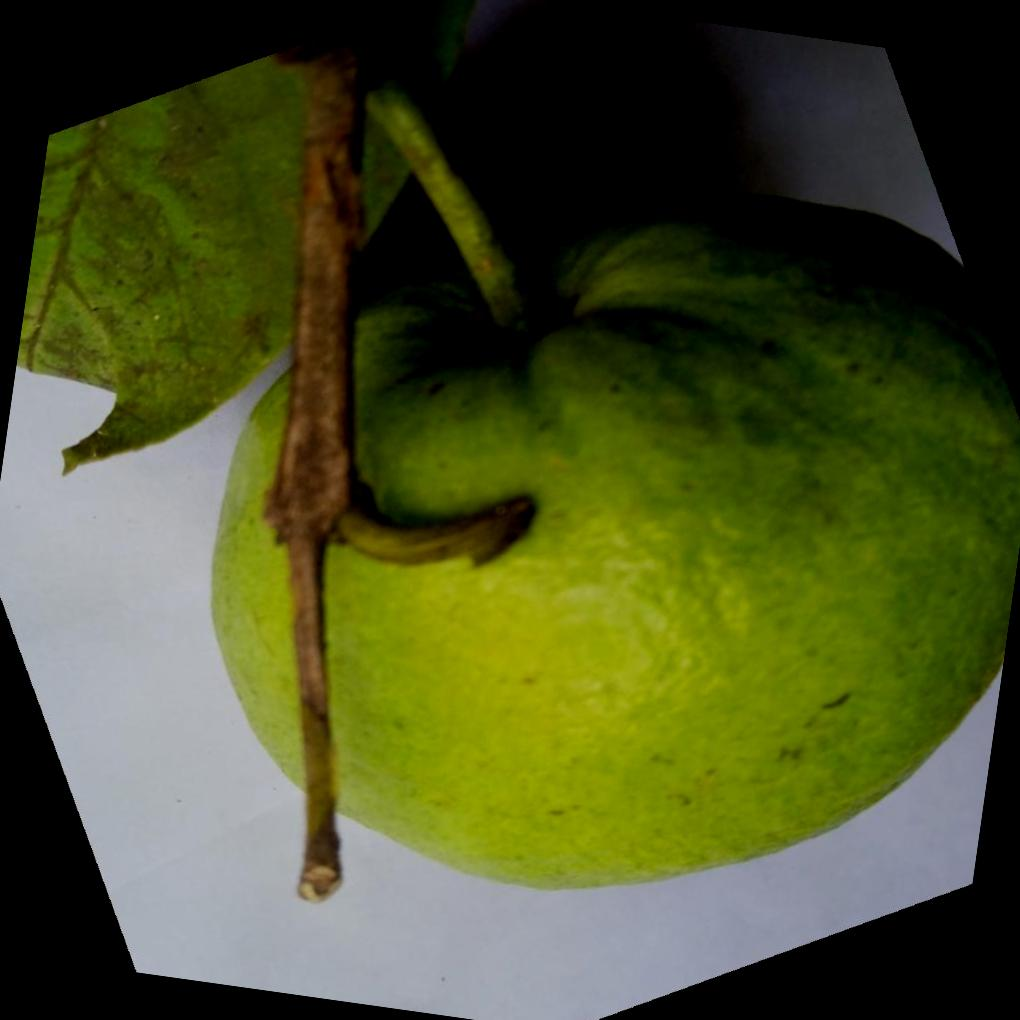FreshGuava: (313, 57, 1020, 891)
